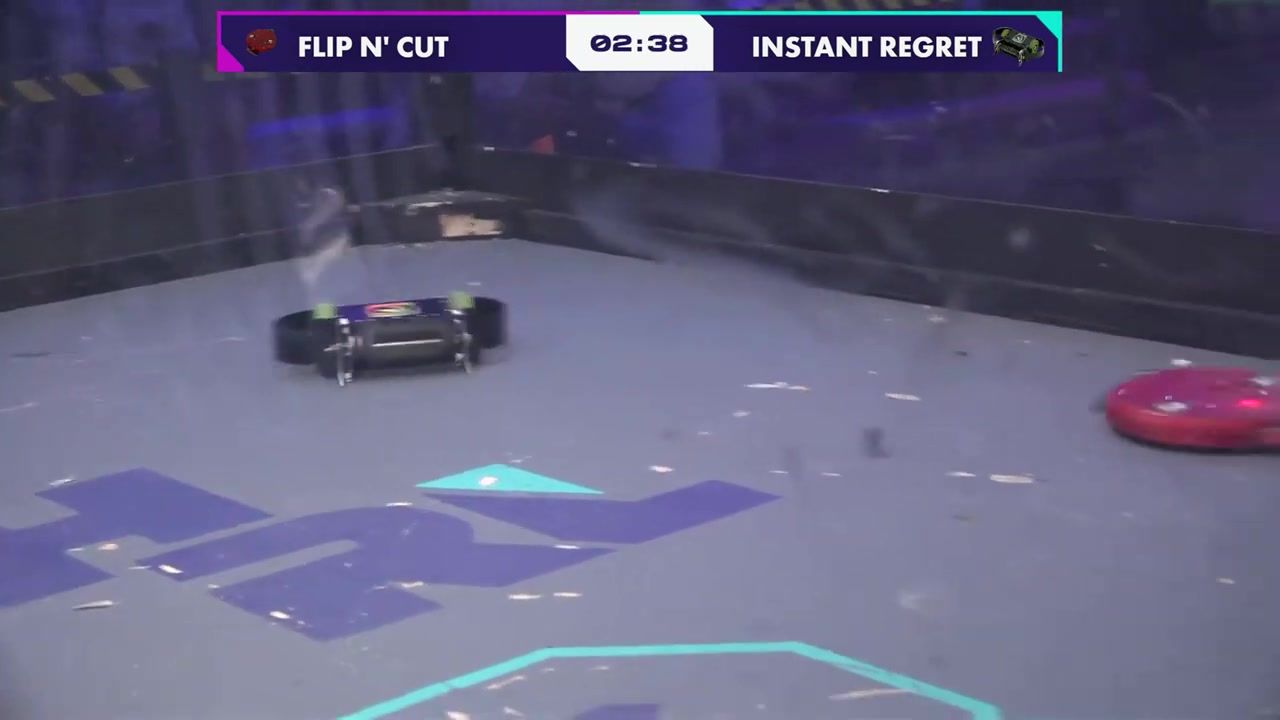combatbot: (275, 297, 511, 376), (1104, 367, 1280, 457)
